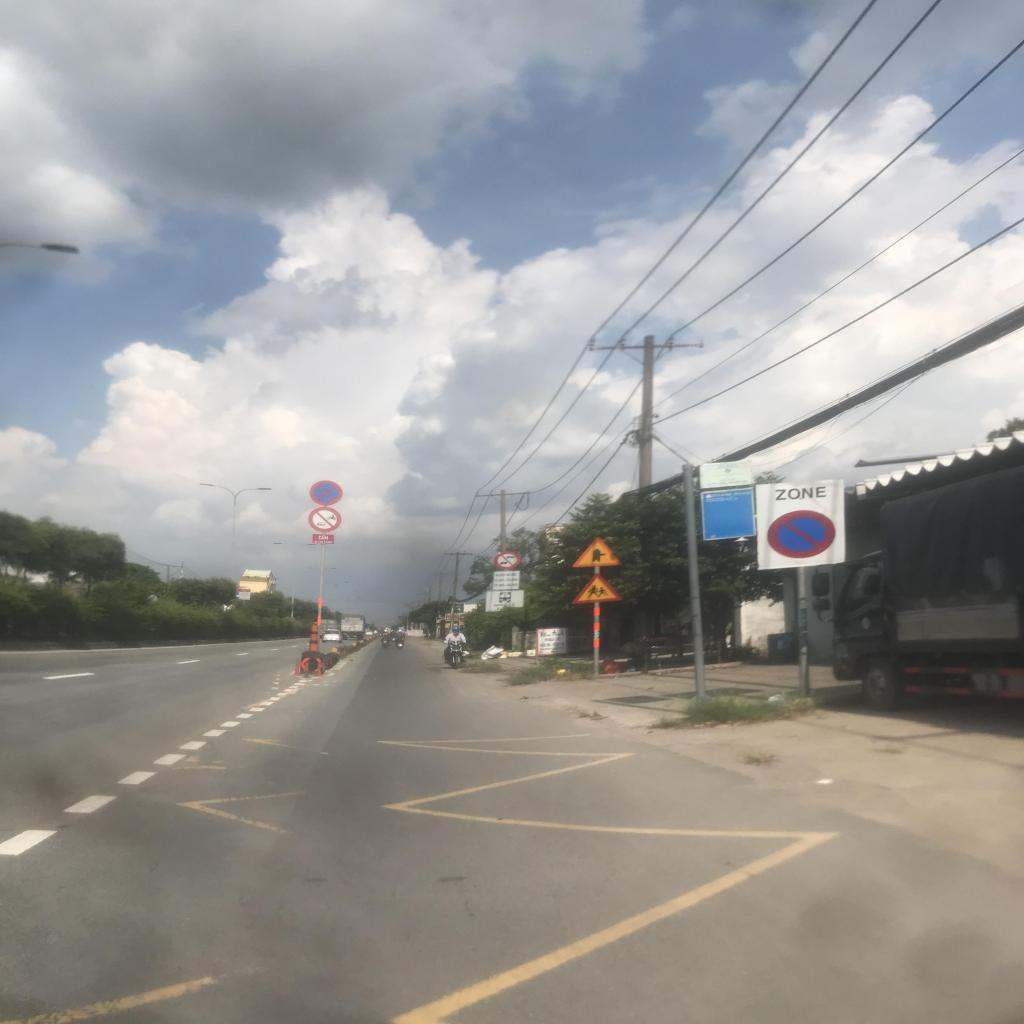cam_do_xe: (766, 508, 836, 560)
cam_dung_xe_va_do_xe: (308, 478, 344, 506)
cam_o_to_tai_va_xe_khach: (493, 550, 521, 570)
cam_xe_2_banh_va_xe_3_banh_co_dong_co: (306, 506, 344, 532)
chu_y_tre_em: (570, 573, 624, 604)
giao_nhau_voi_duong_khong_uu_tien: (570, 536, 626, 568)
khac: (484, 590, 525, 612), (492, 570, 521, 590)
